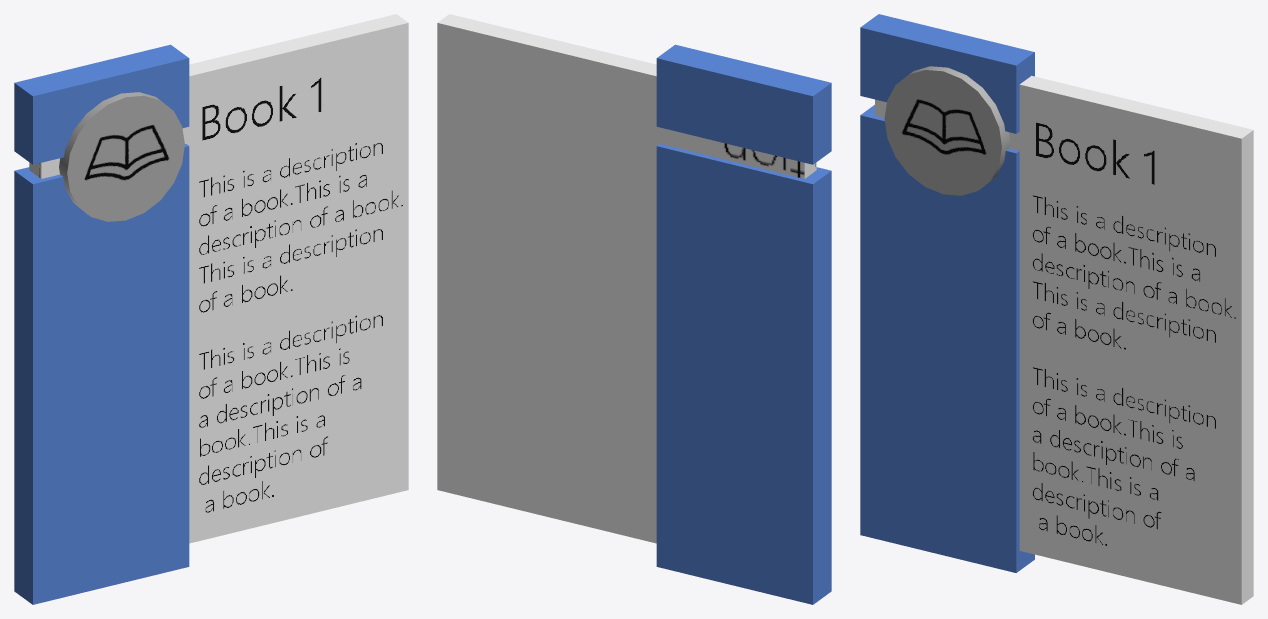
File: book1.fbx
The picture shows the model from 3 angles, left to right: view 1: azimuth 30°, elevation 25°; view 2: azimuth 150°, elevation 25°; view 3: azimuth 330°, elevation 25°; orthographic projection.
Parts seen in each view (by area): view 1: pCube1, pCube3, pCylinder1, pCube2; view 2: pCube1, pCube3, pCube2; view 3: pCube1, pCube3, pCylinder1, pCube2.
Boxes of the visible parts, x1,y1,x2,y2 form: pCube1: (29, 14, 408, 543); pCube3: (14, 144, 189, 604); pCylinder1: (59, 92, 184, 221); pCube2: (14, 44, 189, 164); pCube1: (437, 14, 816, 543); pCube3: (656, 144, 831, 604); pCube2: (656, 44, 831, 164); pCube1: (875, 75, 1253, 604); pCube3: (860, 105, 1034, 572); pCylinder1: (884, 66, 1010, 195); pCube2: (860, 14, 1034, 133).
Size of the model in its own units: 6.21 by 0.6684 by 7.96.
Materials: 3 (2 with a texture image).
